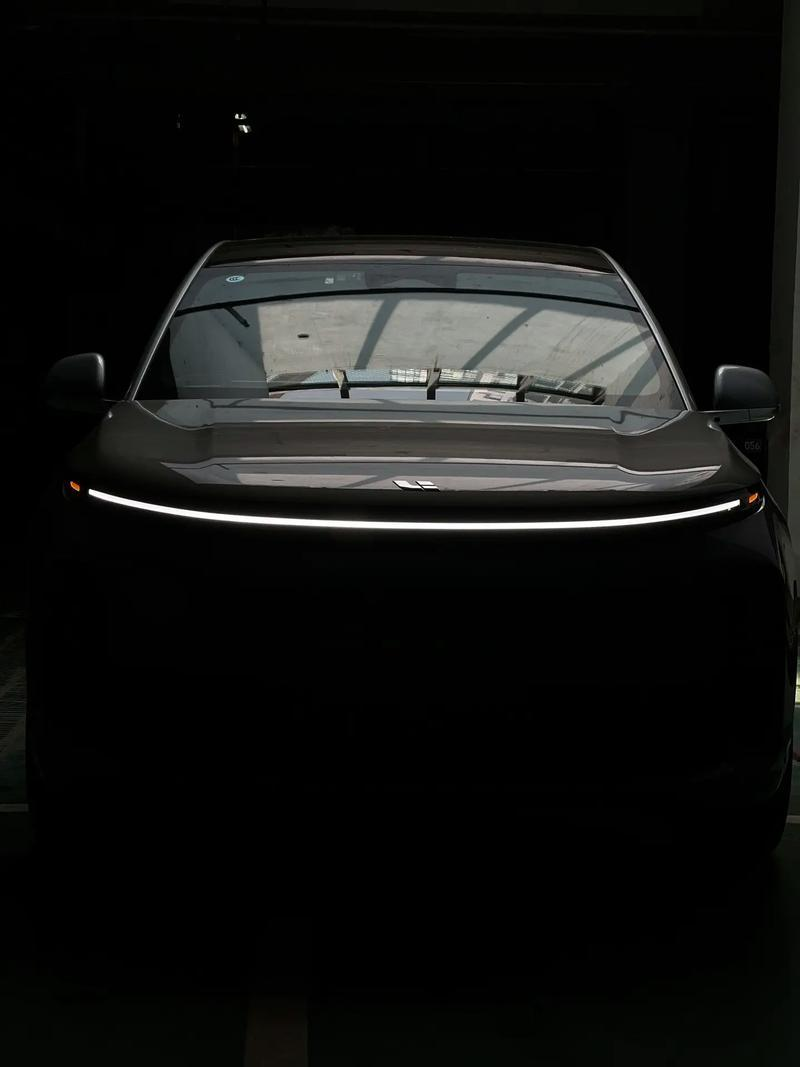Li Auto: (393, 480, 438, 490)
